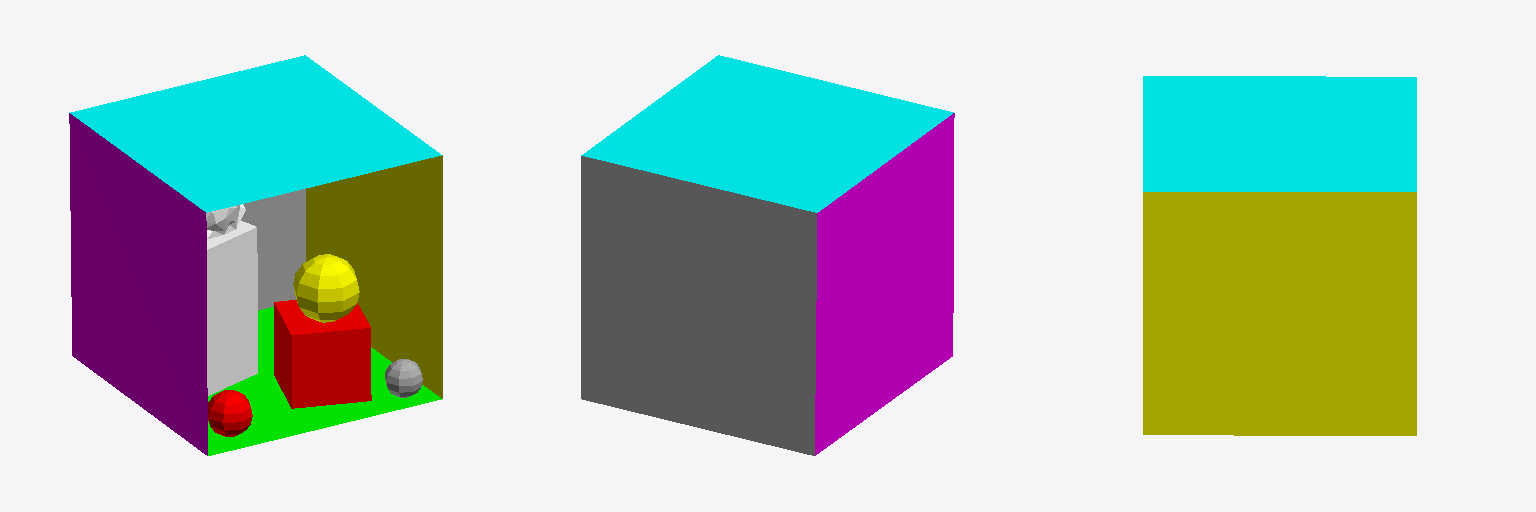
Rendered from cornell-box2.obj.
3 renders of one model, left to right at view 1: azimuth 30°, elevation 25°; view 2: azimuth 150°, elevation 25°; view 3: azimuth 270°, elevation 25°, orthographic.
Parts seen in each view (by area): view 1: left_wall, ceiling, right_wall, short_box, floor, tall_box, back_wall, sphere, sphere2, sphere3, bunny; view 2: back_wall, left_wall, ceiling; view 3: right_wall, ceiling.
Boxes of the visible parts, x1=… form: left_wall: x1=69, y1=113, x2=207, y2=455; ceiling: x1=70, y1=55, x2=441, y2=212; right_wall: x1=306, y1=155, x2=442, y2=398; short_box: x1=274, y1=300, x2=371, y2=408; floor: x1=208, y1=307, x2=441, y2=455; tall_box: x1=207, y1=221, x2=257, y2=395; back_wall: x1=241, y1=189, x2=305, y2=310; sphere: x1=293, y1=254, x2=359, y2=322; sphere2: x1=208, y1=390, x2=252, y2=436; sphere3: x1=385, y1=359, x2=422, y2=397; bunny: x1=206, y1=204, x2=245, y2=238; back_wall: x1=581, y1=156, x2=816, y2=455; left_wall: x1=815, y1=113, x2=954, y2=455; ceiling: x1=581, y1=55, x2=953, y2=212; right_wall: x1=1143, y1=192, x2=1416, y2=435; ceiling: x1=1143, y1=76, x2=1416, y2=191.
Size of the model in its own units: 5.56 by 5.49 by 5.6.